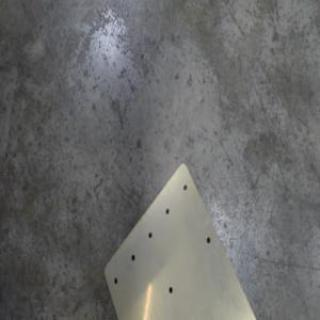MetalSheettrack_idkeyframe: (102, 156, 262, 319)
